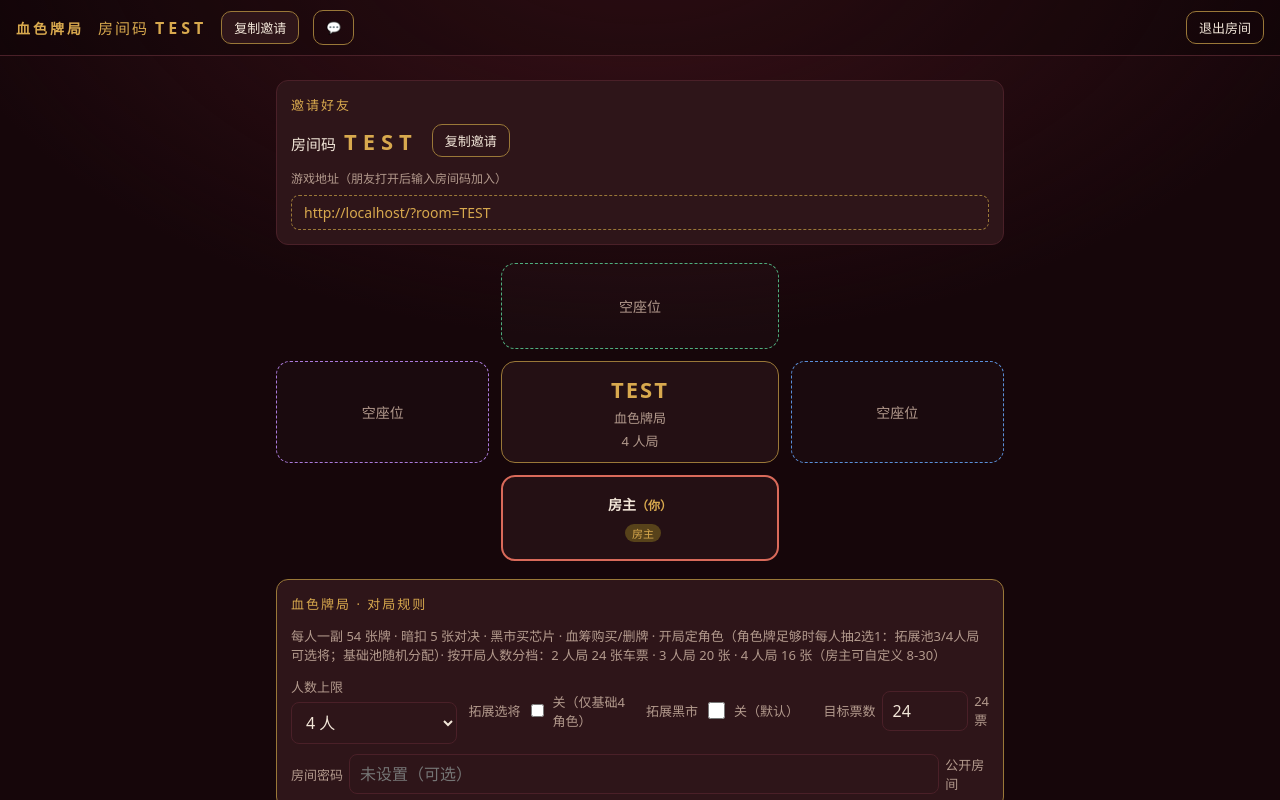
Room · 房间等待页 › 目标票数失焦钳制：3 → 8、50 → 30，与服务端/界面承诺同口径
Replace the text in the number field labelled "目标票数 24 票" with "3" at (925, 710), box 882,690 -> 968,730
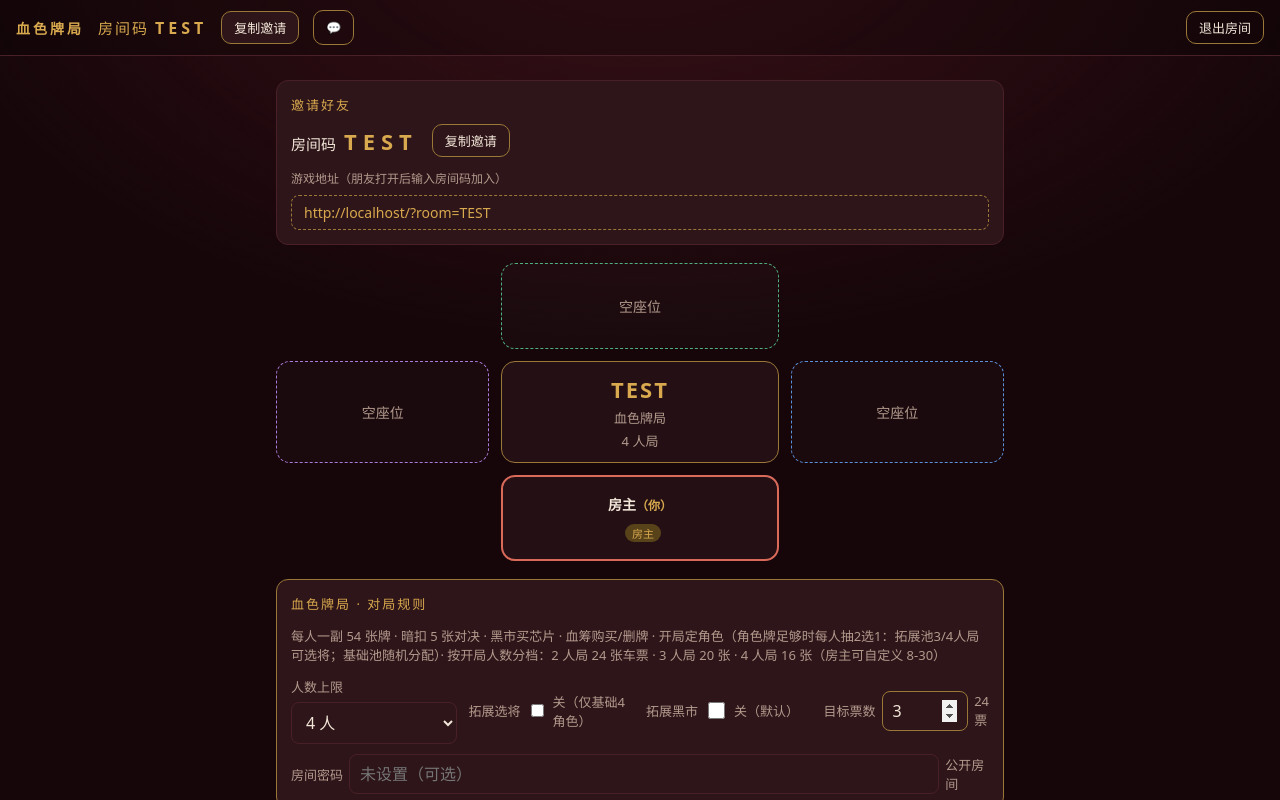
Leave the number field labelled "目标票数 24 票", box 882,690 -> 968,730
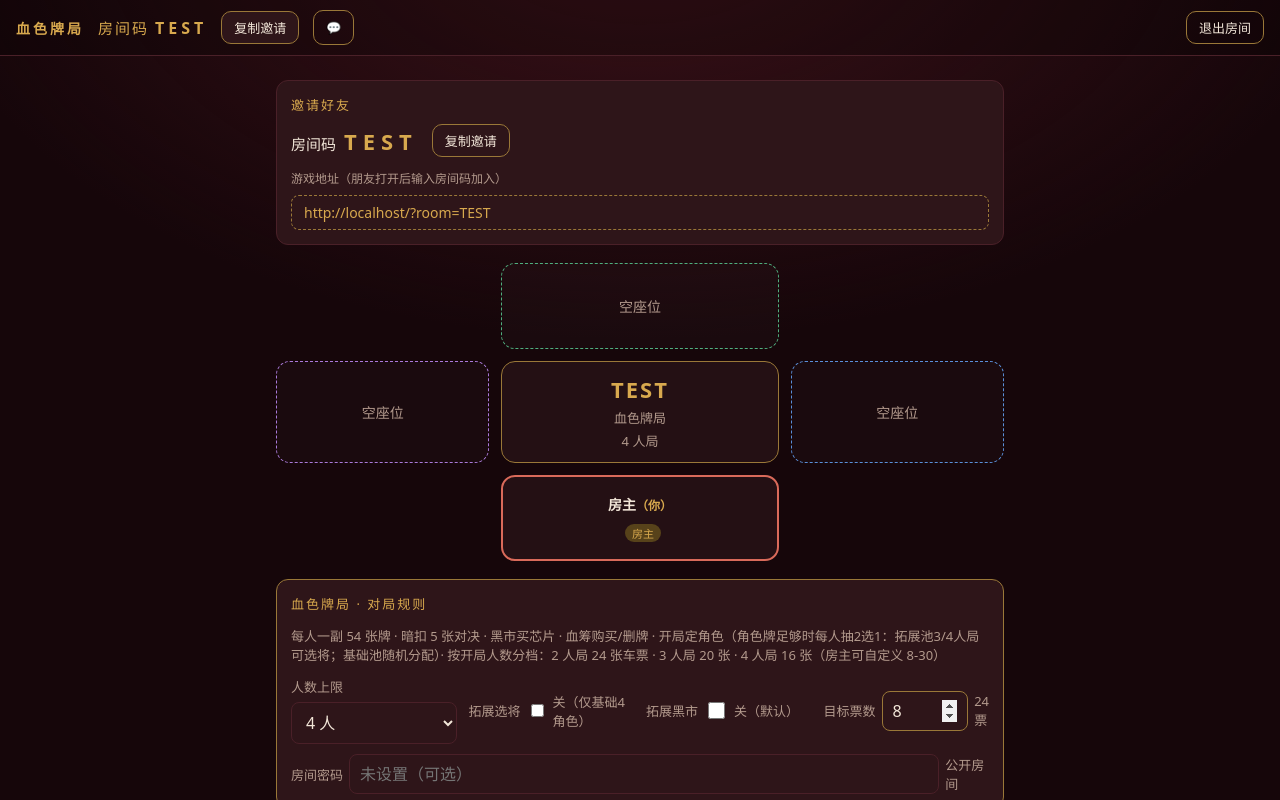
Check: the number field labelled "目标票数 24 票" holds "8"
Replace the text in the number field labelled "目标票数 24 票" with "50" at (925, 710), box 882,690 -> 968,730
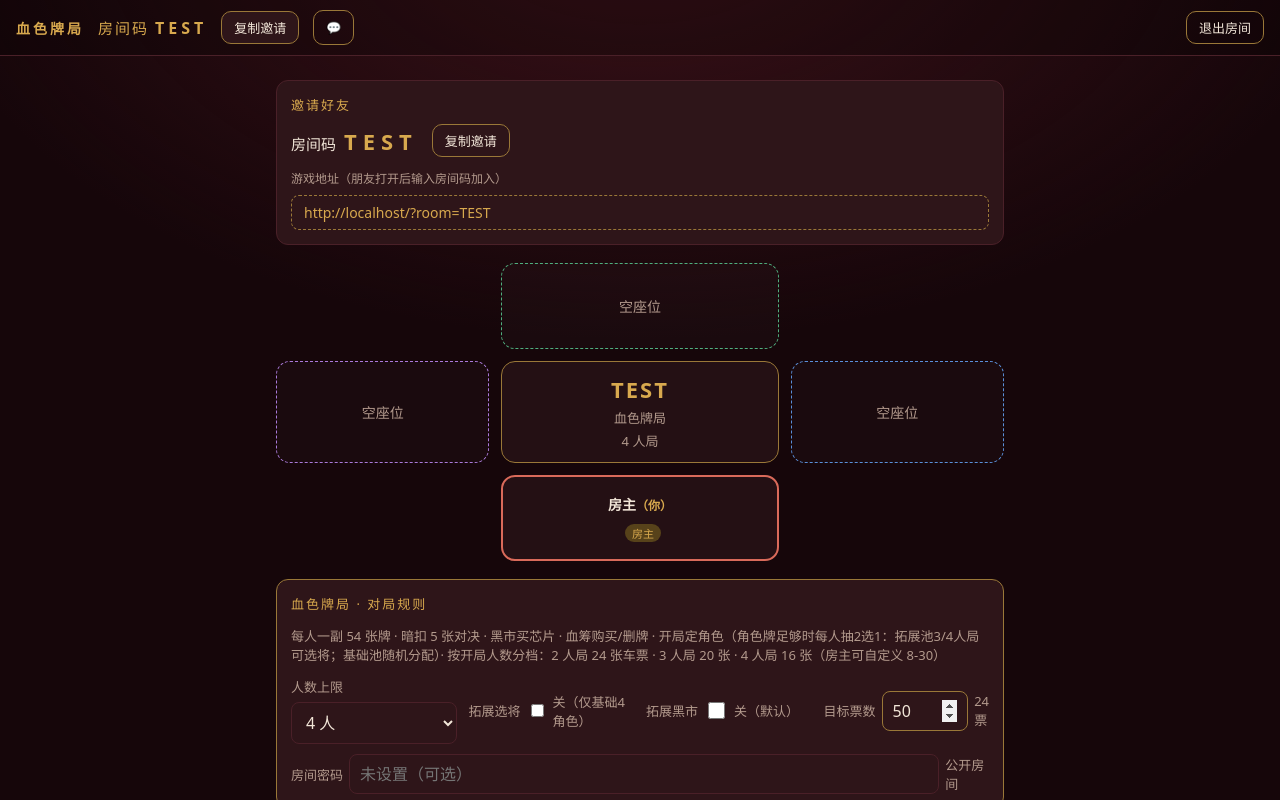
Leave the number field labelled "目标票数 24 票", box 882,690 -> 968,730
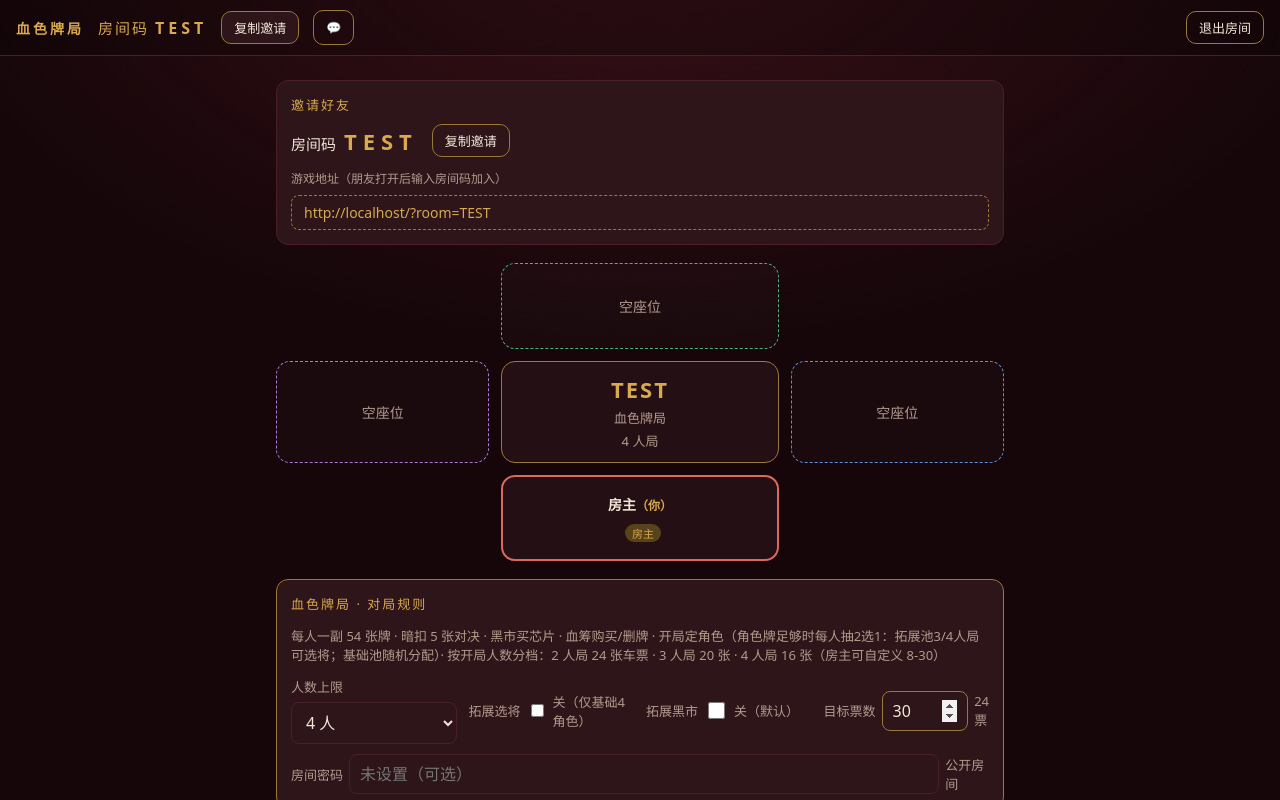
Check: the number field labelled "目标票数 24 票" holds "30", box 882,690 -> 968,730
